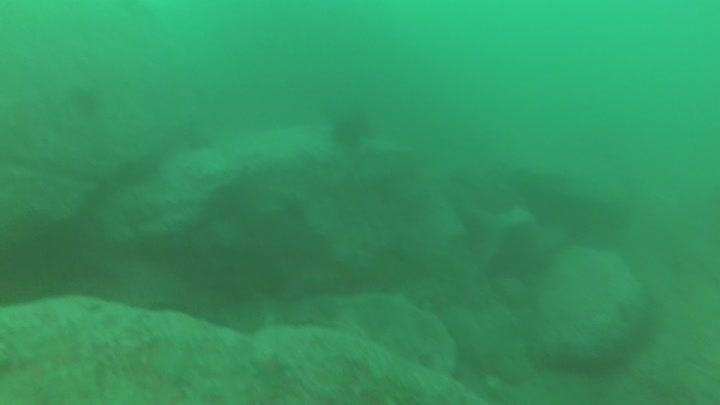echinus: (327, 109, 375, 151), (67, 83, 105, 119)
starfish: (248, 349, 292, 384)
